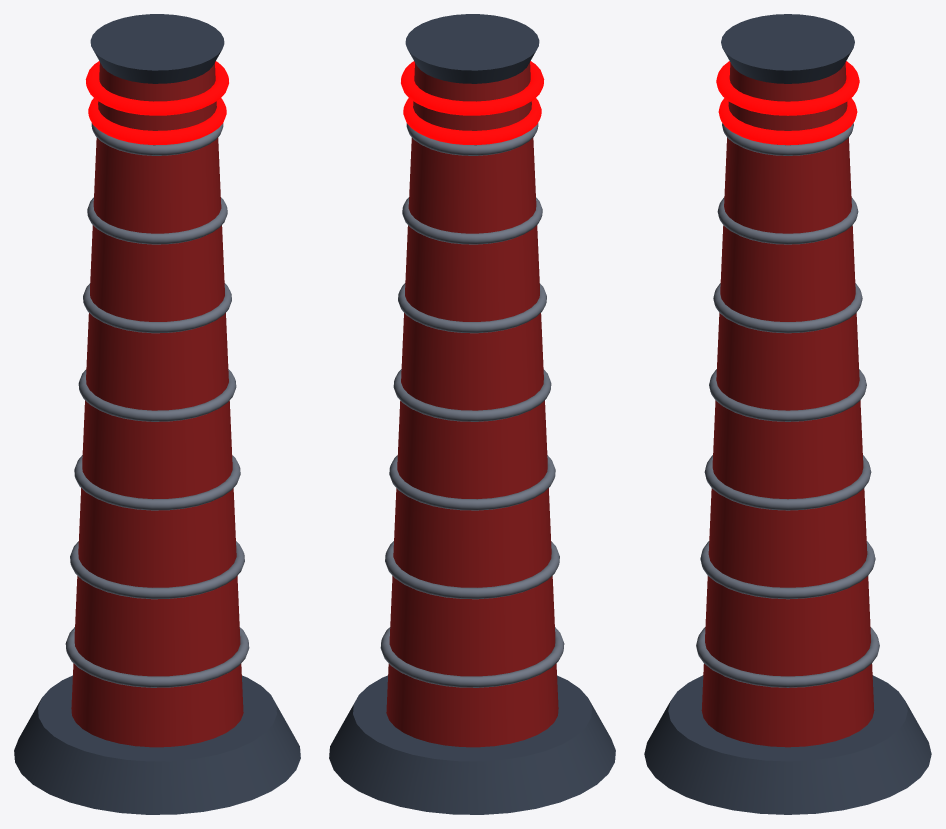
The model's file is stack.glb.
3 views of the same model, side by side, from view 1: azimuth 30°, elevation 25°; view 2: azimuth 150°, elevation 25°; view 3: azimuth 270°, elevation 25° (orthographic).
Bounding box in the file's own units: 6 × 16.4 × 6.
